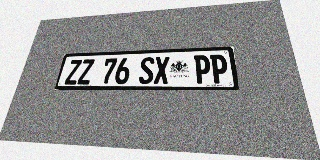6: (114, 58, 131, 84)
7: (100, 58, 117, 84)
P: (210, 54, 229, 83), (194, 55, 211, 84)
S: (138, 57, 155, 84)
X: (154, 56, 169, 84)
Z: (64, 59, 82, 85), (77, 59, 95, 84)
